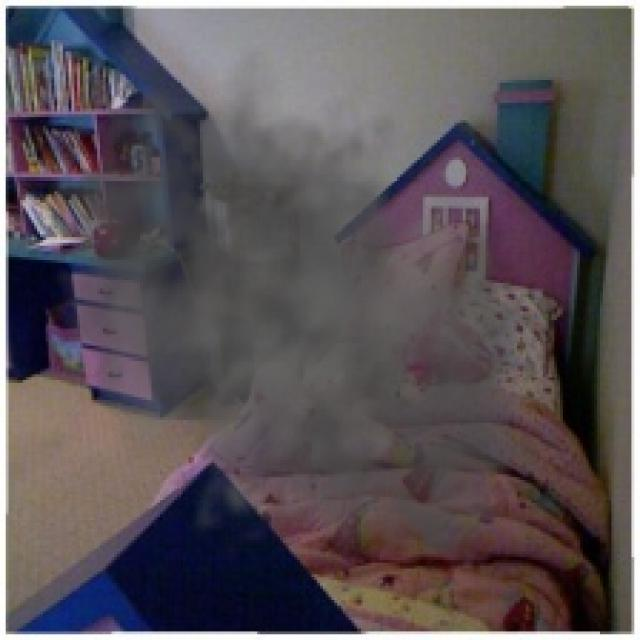smoke: (14, 46, 577, 597)
